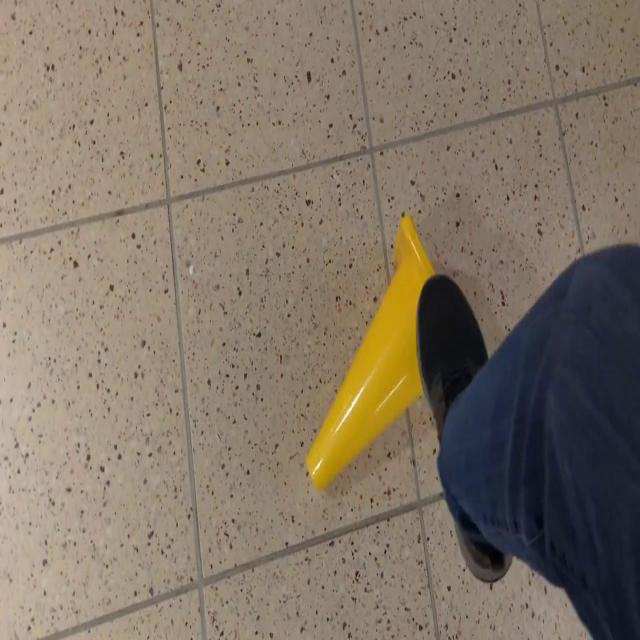frc_cone: (306, 213, 436, 494)
